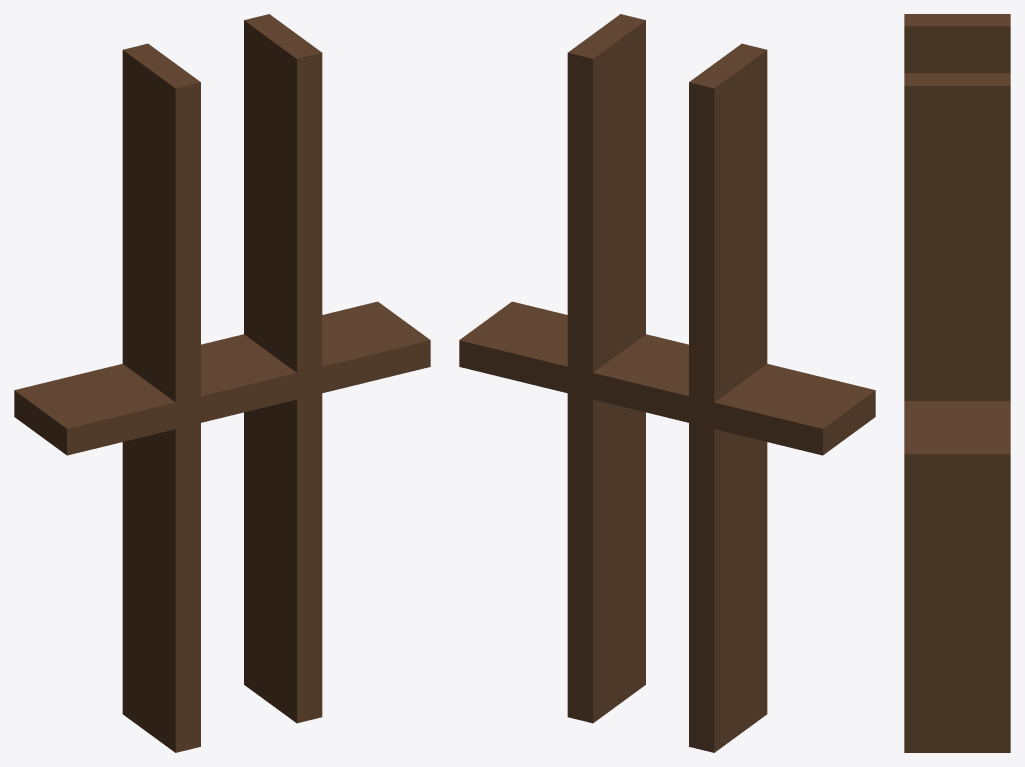
The model's file is FrameStuds.fbx.
3 views of the same model, side by side, from view 1: azimuth 30°, elevation 25°; view 2: azimuth 150°, elevation 25°; view 3: azimuth 270°, elevation 25° (orthographic).
Parts seen in each view (by area): view 1: Kit_FrameStuds; view 2: Kit_FrameStuds; view 3: Kit_FrameStuds.
Boxes of the visible parts, bbox=[...] form: Kit_FrameStuds: bbox=[14, 14, 430, 752]; Kit_FrameStuds: bbox=[459, 14, 875, 752]; Kit_FrameStuds: bbox=[904, 14, 1010, 752].
Size of the model in its own units: 1 by 1.75 by 0.252.
